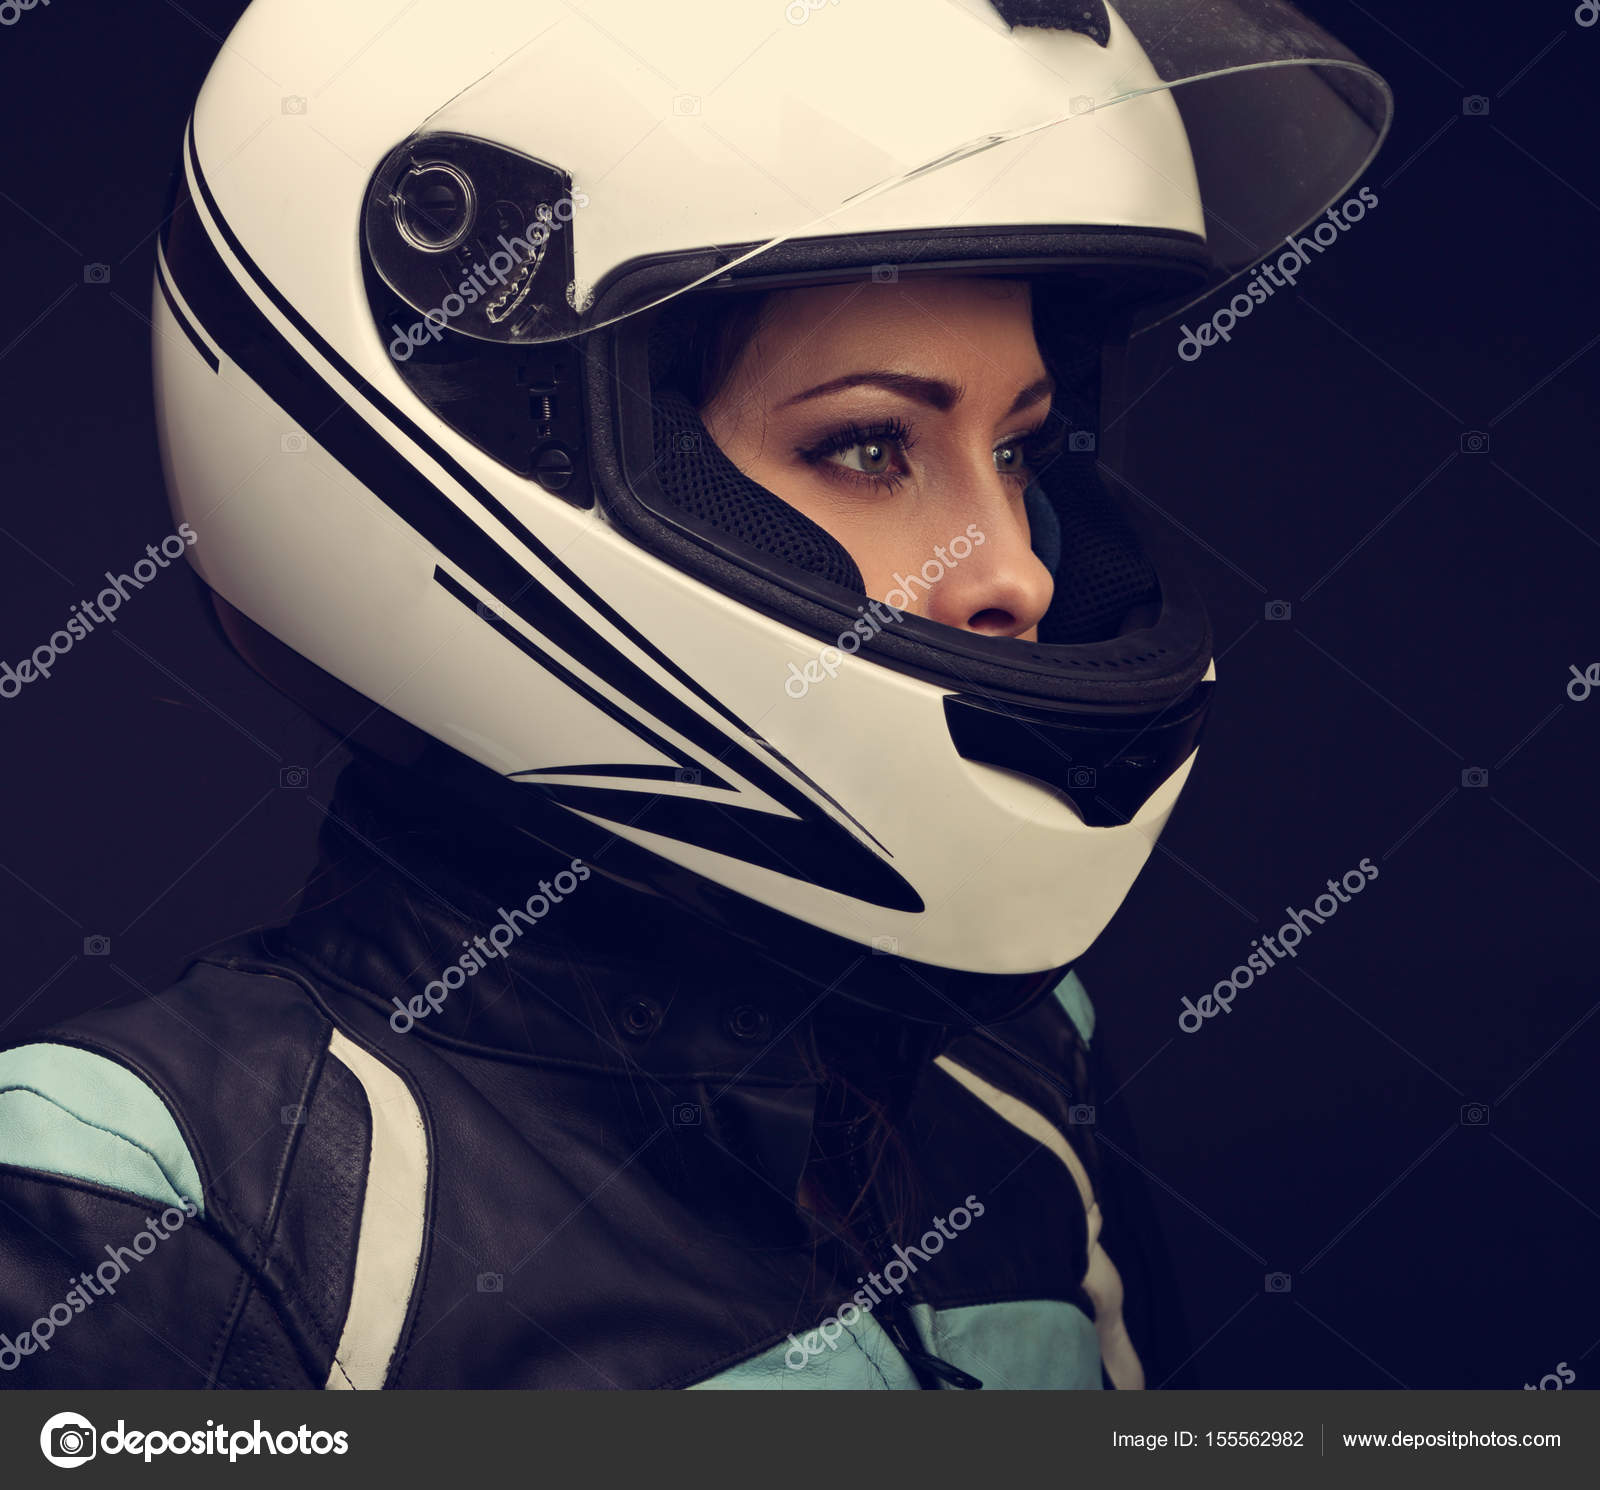helmet: (182, 14, 1214, 942)
